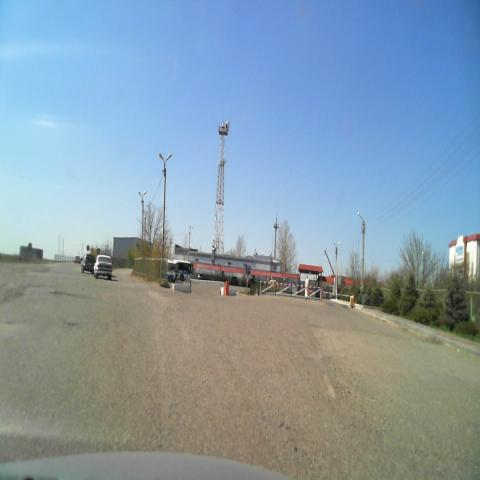6_4: (246, 264, 250, 274)
